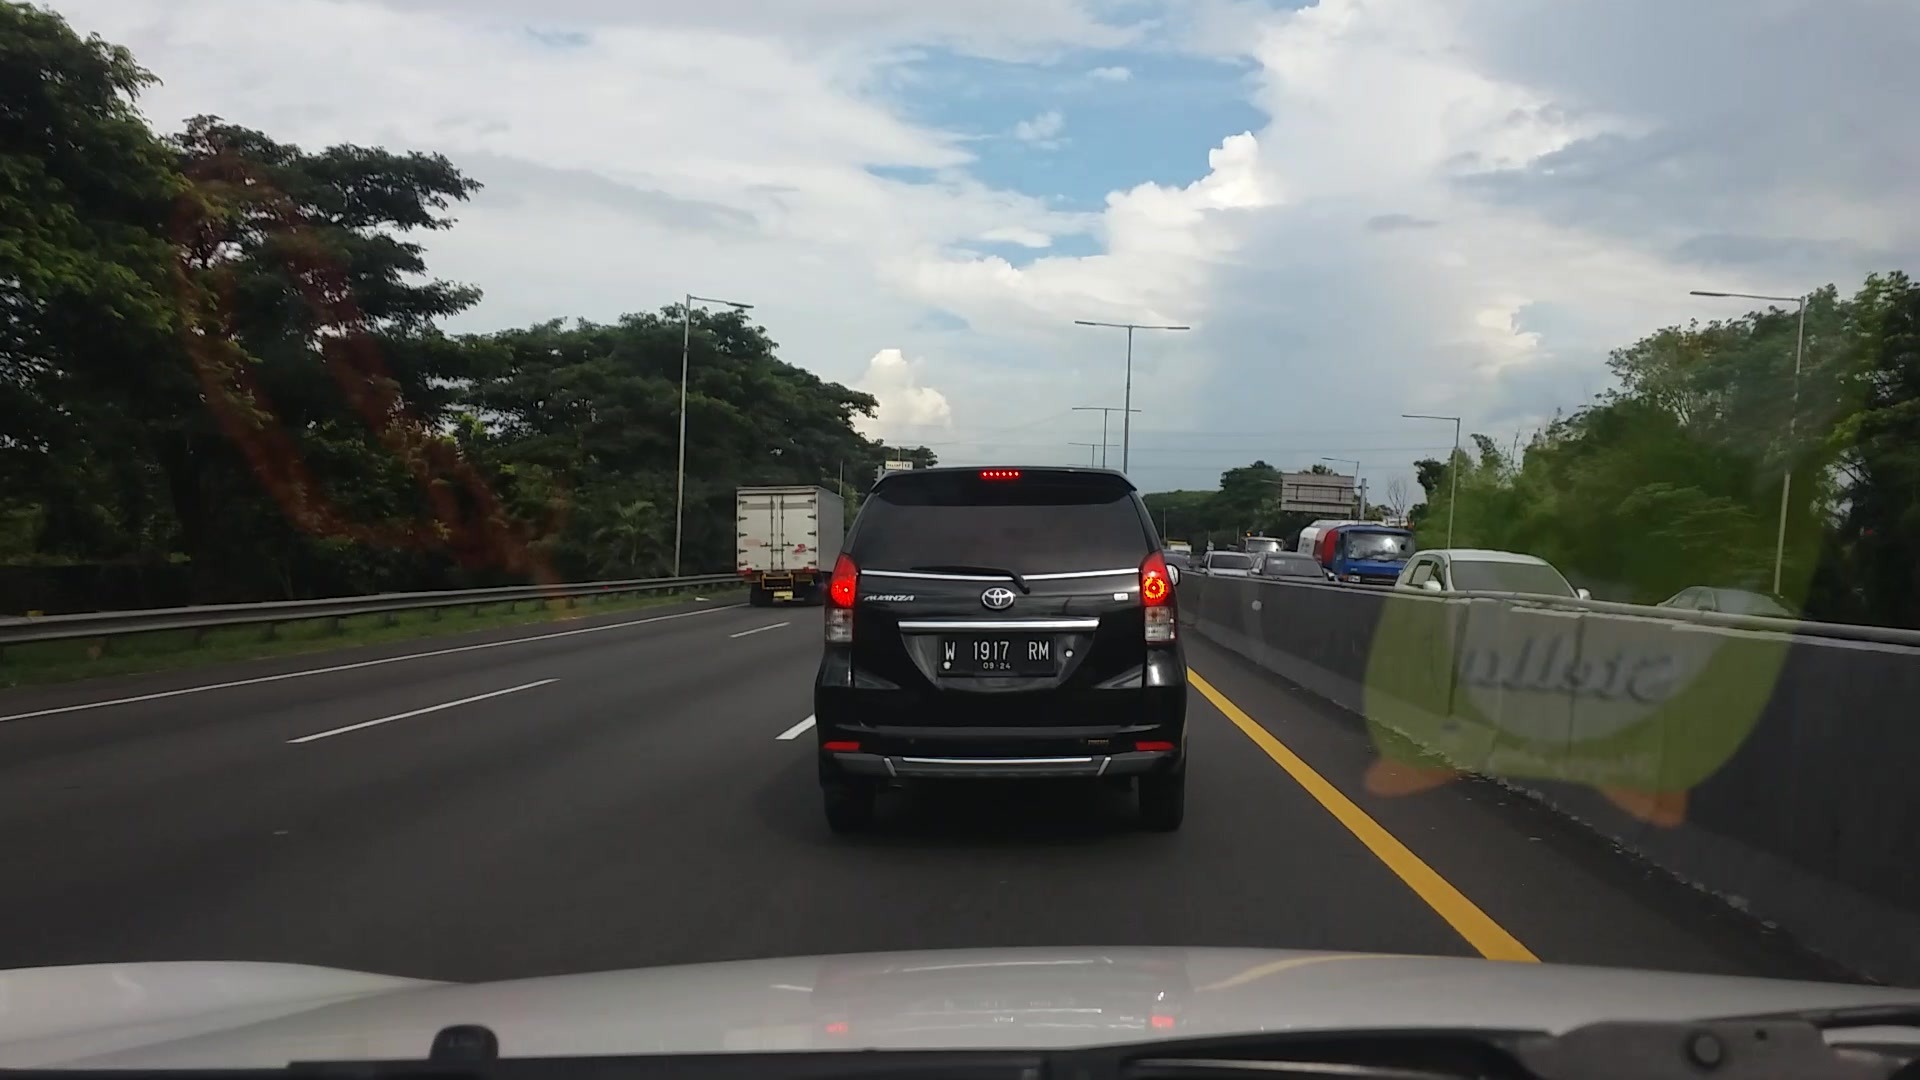plate_positive: (936, 632, 1058, 676)
